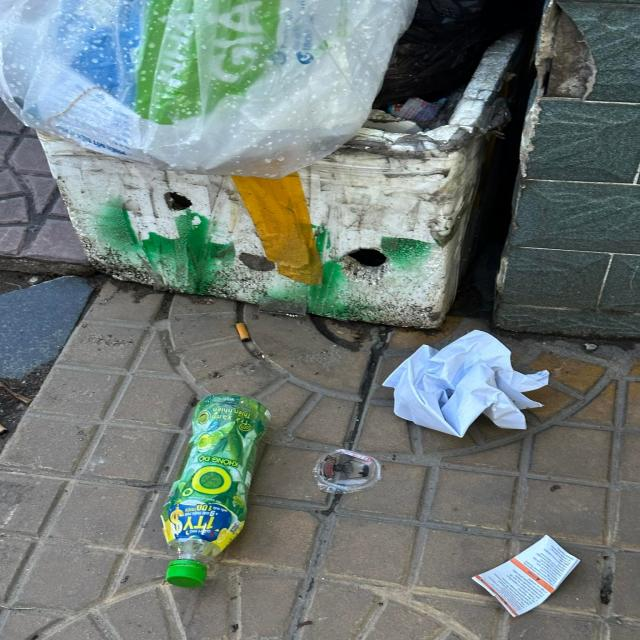bottle: (159, 394, 274, 589)
lid: (310, 448, 382, 496)
paper: (383, 330, 551, 439), (468, 533, 584, 618)
trash bag: (0, 0, 419, 178)
